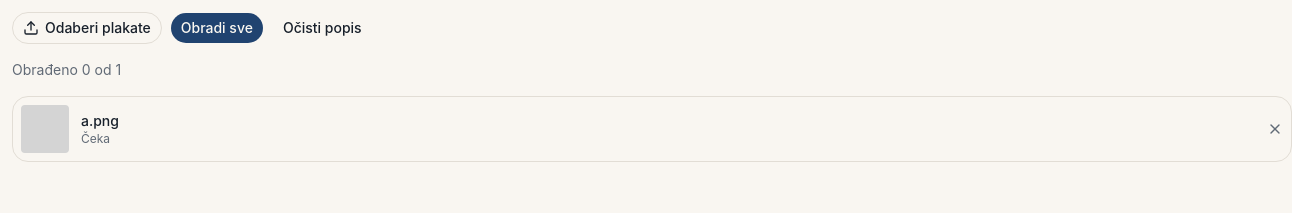
Scenario: bulk poster processing › links every processed poster to its source for review
The width and height of the screenshot is (1292, 213).
Earlier steps of the test are not shown.
Click the button "Obradi sve" at coordinates (217, 28), box top-left (170, 12), bottom-right (264, 44)
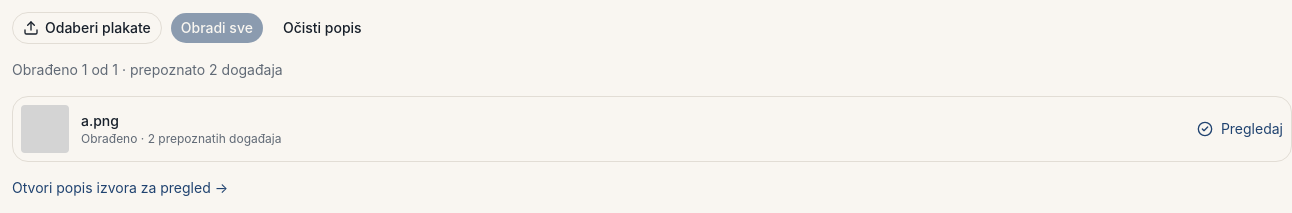
expect the link "Pregledaj" is shown: met, box top-left (1221, 119), bottom-right (1283, 139)
